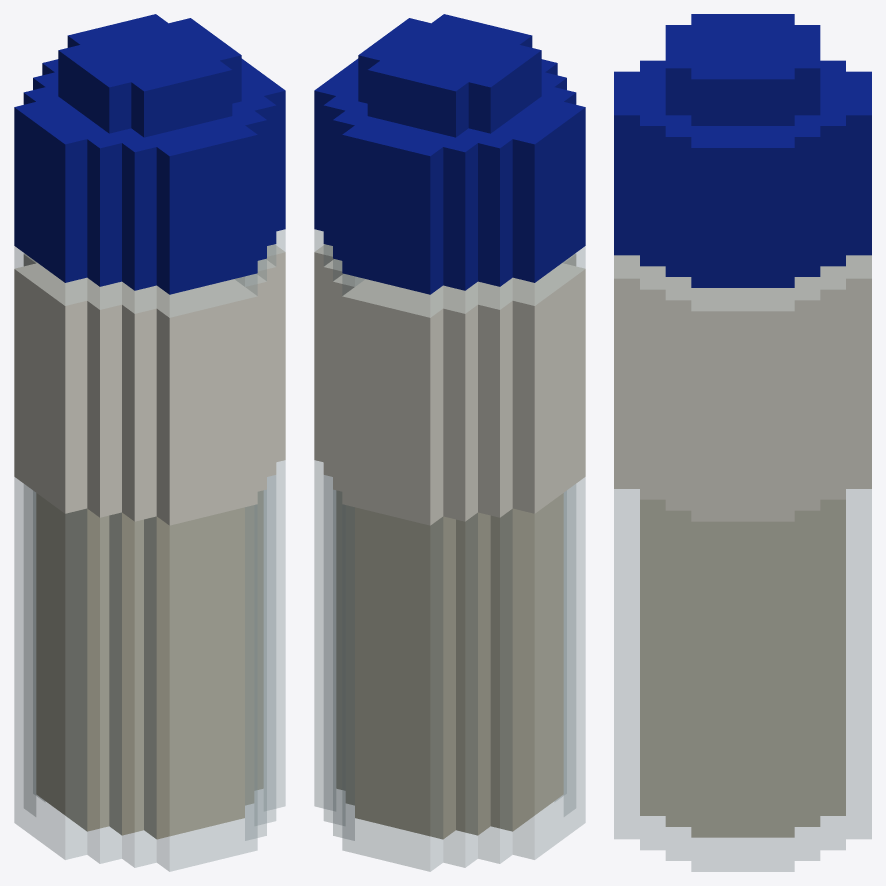
The model's file is homeopathic_pills.glb.
3 renders of one model, left to right at view 1: azimuth 30°, elevation 25°; view 2: azimuth 150°, elevation 25°; view 3: azimuth 270°, elevation 25°, orthographic.
Visible parts, largest first — view 1: homeopathic_pills:compound; view 2: homeopathic_pills:compound; view 3: homeopathic_pills:compound.
Boxes of the visible parts, left/top/right/bottom form: homeopathic_pills:compound: left=14, top=14, right=285, bottom=871; homeopathic_pills:compound: left=314, top=14, right=585, bottom=871; homeopathic_pills:compound: left=614, top=14, right=871, bottom=871.
Bounding box in the file's own units: 0.02 × 0.066 × 0.02.
